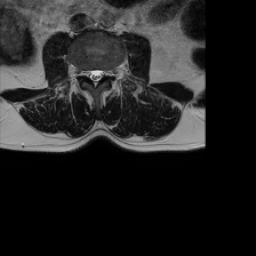CCS_normal: (92, 63, 98, 91)
LFS_normal: (105, 61, 112, 82)
LLS_normal: (98, 63, 105, 83)
RFS_normal: (79, 62, 86, 81)
RLS_normal: (86, 64, 92, 85)
